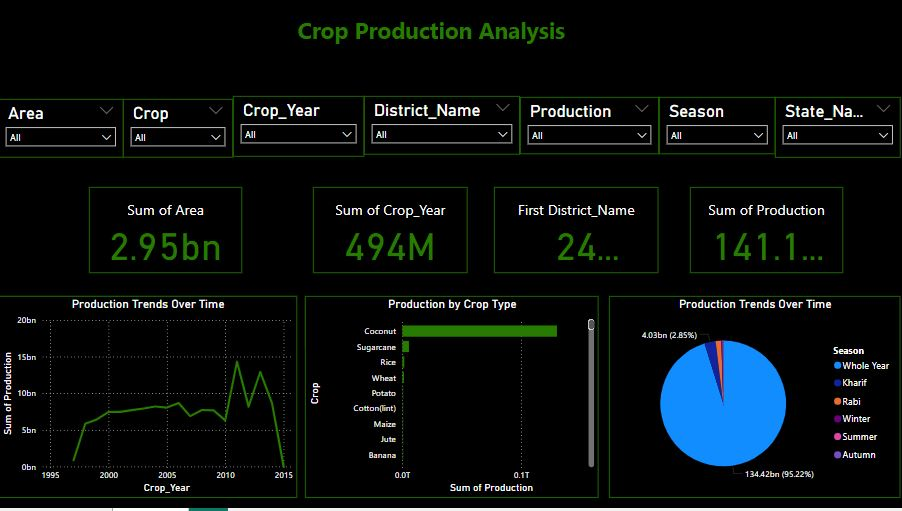

What the dashboard file says about the page in this screenshot:
{"tool":"powerbi","page":{"name":"Page 1","canvas":[1280,720],"ordinal":0},"visuals":[{"type":"cardVisual","fields":{"Data":["Sum(Crop Production data.Area)"]},"box":[128.6,265.1,217.5,122.2],"z":0},{"type":"cardVisual","fields":{"Data":["Sum(Crop Production data.Crop_Year)"]},"box":[446,265.1,219,122.2],"z":1000},{"type":"cardVisual","fields":{"Data":["Min(Crop Production data.District_Name)"]},"box":[703.2,265.1,233.3,122.2],"z":2000},{"type":"cardVisual","fields":{"Data":["Sum(Crop Production data.Production)"]},"box":[981,265.1,217.5,122.2],"z":3000},{"type":"slicer","fields":{"Values":["Crop Production data.Area"]},"box":[0,139.7,177.8,82.5],"z":4000},{"type":"slicer","fields":{"Values":["Crop Production data.Crop"]},"box":[177.8,139.7,155.6,82.5],"z":5000},{"type":"slicer","fields":{"Values":["Crop Production data.Crop_Year"]},"box":[333.3,136.5,185.7,85.7],"z":6000},{"type":"slicer","fields":{"Values":["Crop Production data.District_Name"]},"box":[519,136.5,220.6,82.5],"z":7000},{"type":"slicer","fields":{"Values":["Crop Production data.Production"]},"box":[739.7,138.1,196.8,81],"z":8000},{"type":"slicer","fields":{"Values":["Crop Production data.Season"]},"box":[936.5,138.1,165.1,81],"z":9000},{"type":"slicer","fields":{"Values":["Crop Production data.State_Name"]},"box":[1101.6,138.1,177.8,85.7],"z":10000},{"type":"barChart","title":"Production by Crop Type","fields":{"Y":["Sum(Crop Production data.Production)"],"Category":["Crop Production data.Crop"]},"box":[434.9,419,415.9,285.7],"z":11000},{"type":"lineChart","title":"Production Trends Over Time","fields":{"Category":["Crop Production data.Crop_Year"],"Y":["Sum(Crop Production data.Production)"]},"box":[0,419,423.8,285.7],"z":12000},{"type":"pieChart","title":"Production Trends Over Time","fields":{"Category":["Crop Production data.Season"],"Y":["Sum(Crop Production data.Production)"]},"box":[866.7,419,412.7,285.7],"z":13000},{"type":"textbox","box":[100,15.9,1027,107.9],"z":14000}]}

Visuals, with their boxes in screenshot pixels (x1, y1, x2, y2), scaled from the page's 1280x720 canvas onto the 902x511 screenshot:
cardVisual - Sum(Crop Production data.Area): <bbox>91, 188, 244, 275</bbox>
cardVisual - Sum(Crop Production data.Crop_Year): <bbox>314, 188, 469, 275</bbox>
cardVisual - Min(Crop Production data.District_Name): <bbox>496, 188, 660, 275</bbox>
cardVisual - Sum(Crop Production data.Production): <bbox>691, 188, 845, 275</bbox>
slicer - Crop Production data.Area: <bbox>0, 99, 125, 158</bbox>
slicer - Crop Production data.Crop: <bbox>125, 99, 235, 158</bbox>
slicer - Crop Production data.Crop_Year: <bbox>235, 97, 366, 158</bbox>
slicer - Crop Production data.District_Name: <bbox>366, 97, 521, 155</bbox>
slicer - Crop Production data.Production: <bbox>521, 98, 660, 156</bbox>
slicer - Crop Production data.Season: <bbox>660, 98, 776, 156</bbox>
slicer - Crop Production data.State_Name: <bbox>776, 98, 901, 159</bbox>
"Production by Crop Type" barChart: <bbox>306, 297, 600, 500</bbox>
"Production Trends Over Time" lineChart: <bbox>0, 297, 299, 500</bbox>
"Production Trends Over Time" pieChart: <bbox>611, 297, 901, 500</bbox>
textbox: <bbox>70, 11, 794, 88</bbox>
